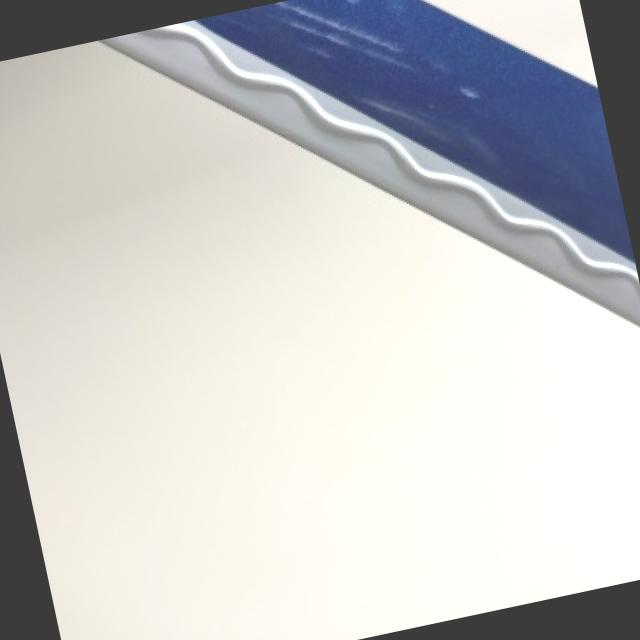healthy: (0, 40, 611, 454)
